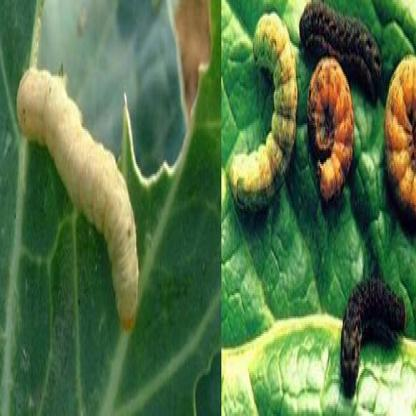armyworm: (14, 52, 141, 332), (228, 10, 299, 220), (296, 0, 388, 103), (338, 275, 408, 403), (309, 53, 355, 209), (386, 46, 416, 237)
